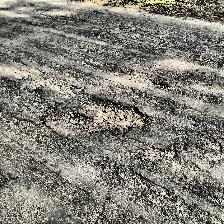pothole: (63, 97, 149, 135)
